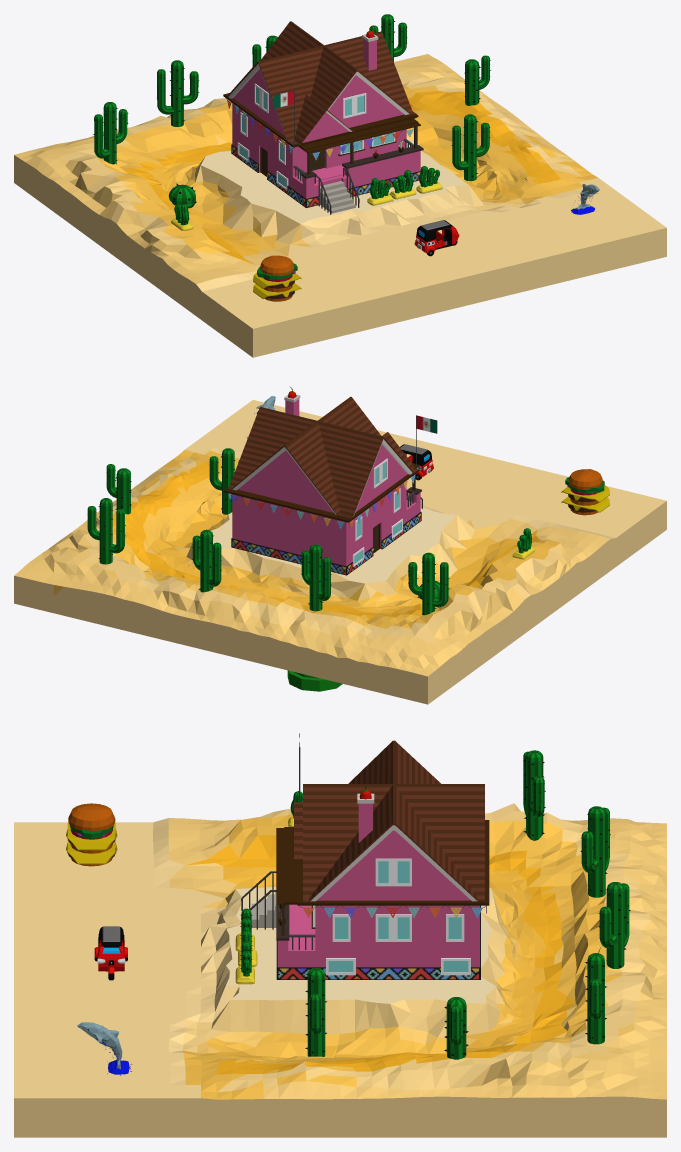
3 views of the same model, one above another, from view 1: azimuth 30°, elevation 25°; view 2: azimuth 150°, elevation 25°; view 3: azimuth 270°, elevation 25° (orthographic). The views are drawn at different scales.
Visible parts, largest first — view 1: Cube.001, Cube.1005, OBJRANDOM_HAMBURGER, Cylinder.044, Cylinder.037, Cylinder.045, VEHICLES_TUC_TUC, Cylinder.038, Cylinder.042, Cylinder.039, Cylinder.041; view 2: Cube.001, Cube.1005, OBJRANDOM_HAMBURGER, Cylinder.042, Cylinder.045, Cylinder.044, Cylinder.043, Cylinder.037, Cylinder.038, UNDERGROUND_PIPES, VEHICLES_TUC_TUC; view 3: Cube.001, Cube.1005, OBJRANDOM_HAMBURGER, Cylinder.043, Cylinder.044, Cylinder.045, Cylinder.037, Cylinder.042, VEHICLES_TUC_TUC, Cylinder.038, ANIMAL_DELFIN, Cylinder.041.
Part boxes in pixels (x1,y1,x2,y2): Cube.001: (14,54,666,357); Cube.1005: (223,21,423,214); OBJRANDOM_HAMBURGER: (253,255,301,301); Cylinder.044: (157,60,199,126); Cylinder.037: (451,114,490,181); Cylinder.045: (93,102,128,164); VEHICLES_TUC_TUC: (414,220,459,256); Cylinder.038: (464,55,490,105); Cylinder.042: (369,14,407,61); Cylinder.039: (367,178,393,205); Cylinder.041: (416,166,442,193); Cube.001: (14,400,666,704); Cube.1005: (224,386,437,575); OBJRANDOM_HAMBURGER: (561,469,609,515); Cylinder.042: (87,498,125,564); Cylinder.045: (408,552,449,615); Cylinder.044: (301,544,331,611); Cylinder.043: (192,529,221,592); Cylinder.037: (209,448,239,514); Cylinder.038: (106,464,131,514); UNDERGROUND_PIPES: (287,670,342,691); VEHICLES_TUC_TUC: (400,444,433,480); Cube.001: (14,803,666,1137); Cube.1005: (241,733,489,979); OBJRANDOM_HAMBURGER: (66,803,117,866); Cylinder.043: (598,882,630,968); Cylinder.044: (580,806,610,897); Cylinder.045: (523,750,545,840); Cylinder.037: (305,968,326,1056); Cylinder.042: (585,953,606,1044); VEHICLES_TUC_TUC: (94,926,127,980); Cylinder.038: (444,997,468,1059); ANIMAL_DELFIN: (77,1022,131,1075); Cylinder.041: (235,941,254,984).
Bounding box in the file's own units: 4002 × 2296 × 4001.
70 materials, 4 textured.
